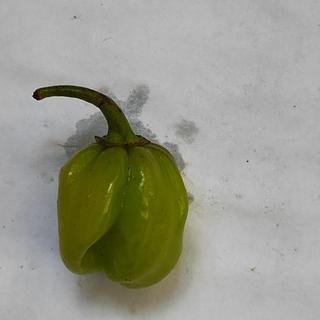Grade-A: (46, 127, 189, 295)
